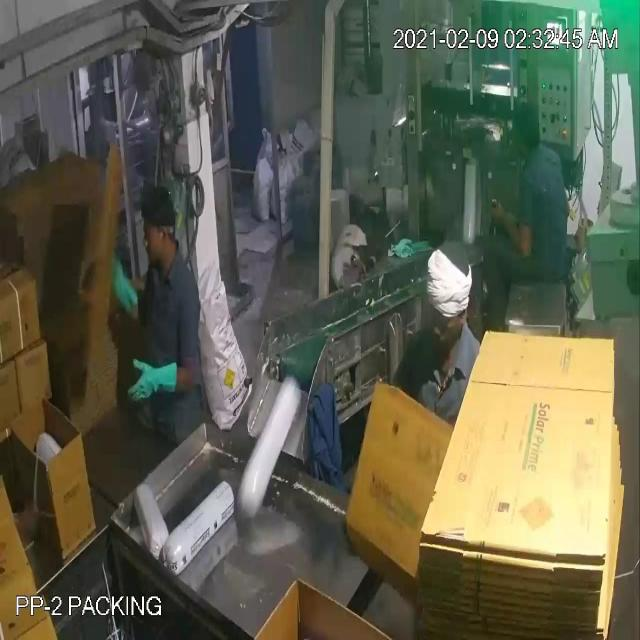gloves: (107, 351, 193, 417), (92, 247, 155, 323)
no-gloves: (487, 195, 537, 265)
